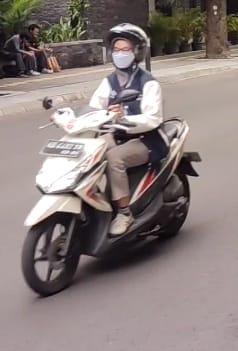helm: (106, 22, 150, 70)
riding: (20, 21, 203, 295)
